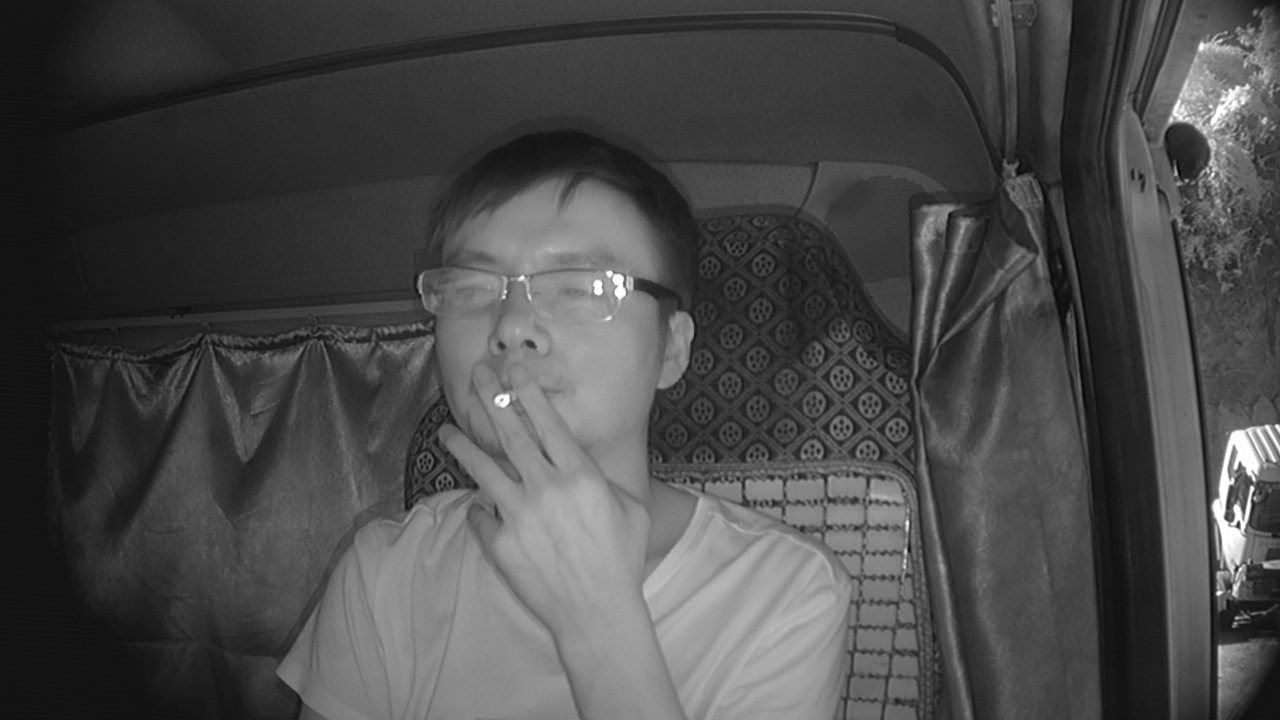hand: (459, 364, 639, 595)
